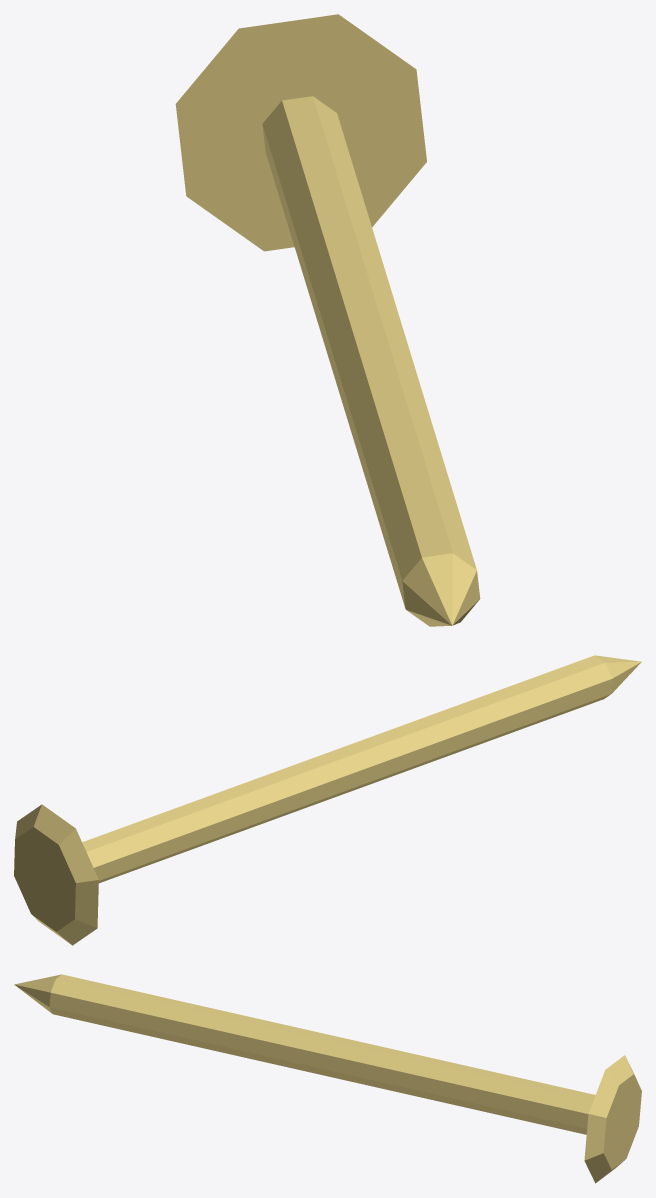
3 renders of one model, top to bottom at view 1: azimuth 30°, elevation 25°; view 2: azimuth 150°, elevation 25°; view 3: azimuth 270°, elevation 25°, orthographic. The views are drawn at different scales.
Visible parts, largest first — view 1: Circle.001; view 2: Circle.001; view 3: Circle.001.
Boxes of the visible parts, bbox=[...] form: Circle.001: bbox=[175, 14, 480, 626]; Circle.001: bbox=[14, 655, 641, 945]; Circle.001: bbox=[14, 974, 641, 1183].
Bounding box in the file's own units: 0.2506 × 0.1005 × 0.5.
